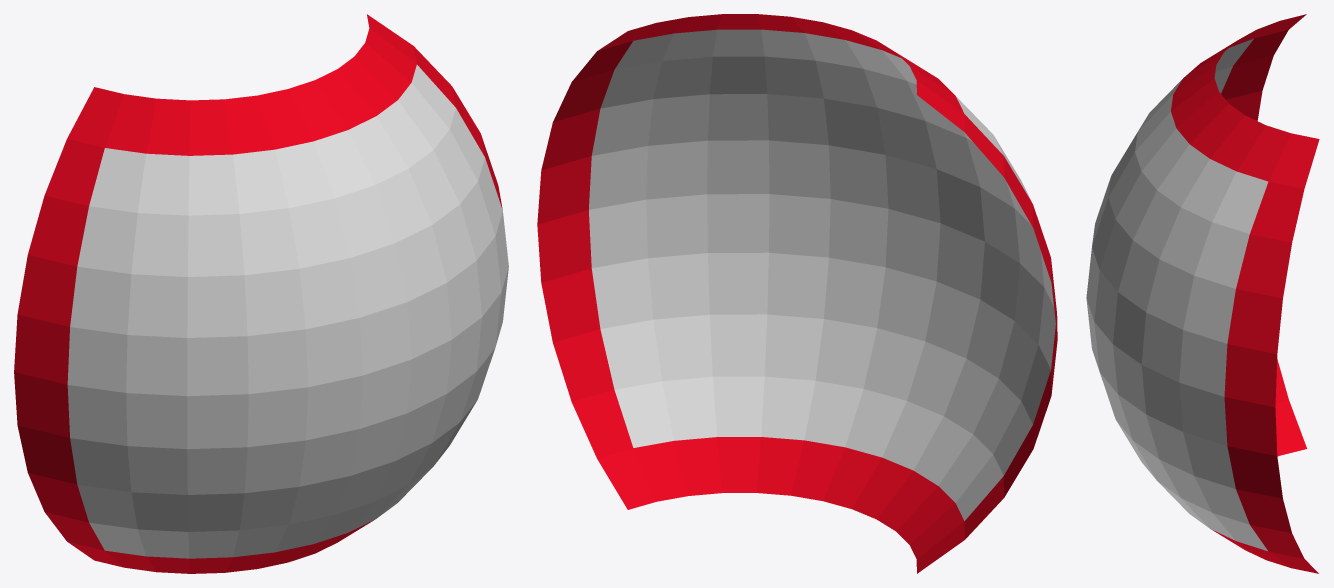
Rendered from SphereFace.fbx.
3 views of the same model, side by side, from view 1: azimuth 30°, elevation 25°; view 2: azimuth 150°, elevation 25°; view 3: azimuth 270°, elevation 25° (orthographic). The views are drawn at different scales.
Visible parts, largest first — view 1: Cone; view 2: Cone; view 3: Cone.
Boxes of the visible parts, x1=… form: Cone: x1=14, y1=14, x2=508, y2=573; Cone: x1=537, y1=14, x2=1057, y2=573; Cone: x1=1086, y1=14, x2=1319, y2=573.
Size of the model in its own units: 18.61 by 16.77 by 8.15.
